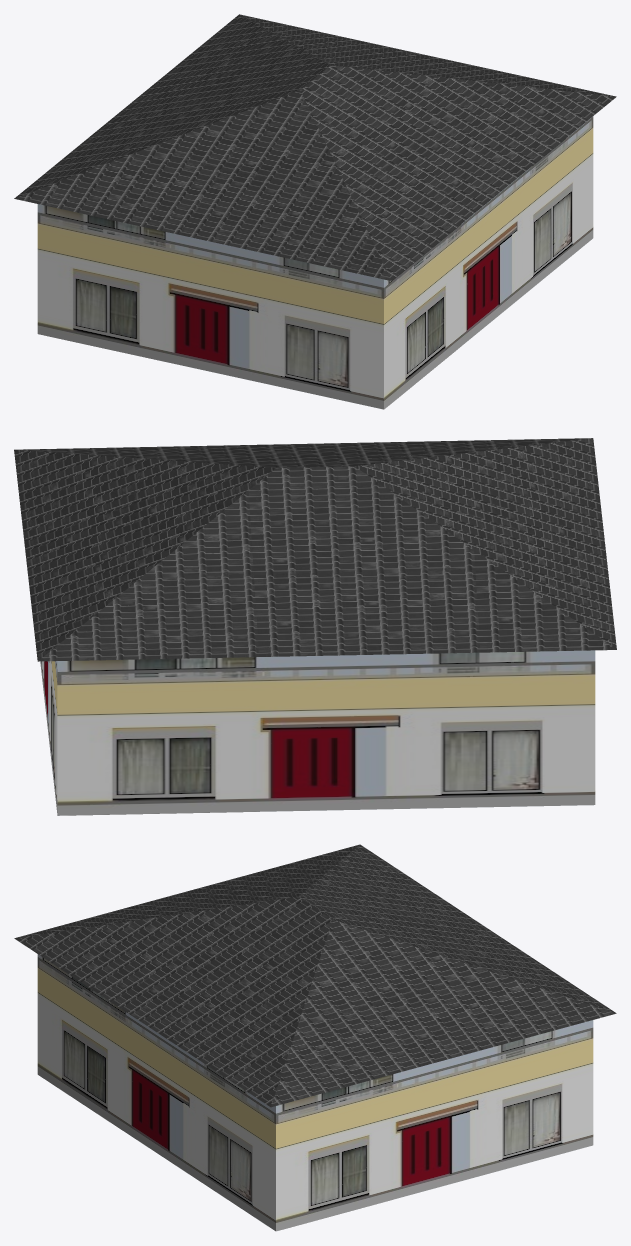
The picture shows the model from 3 angles, top to bottom: view 1: azimuth 30°, elevation 25°; view 2: azimuth 150°, elevation 25°; view 3: azimuth 270°, elevation 25°; orthographic projection. The views are drawn at different scales.
Visible parts, largest first — view 1: CityEngineMaterial_16_m, CityEngineMaterial_15_m; view 2: CityEngineMaterial_16_m, CityEngineMaterial_15_m; view 3: CityEngineMaterial_16_m, CityEngineMaterial_15_m.
Boxes of the visible parts, x1=… form: CityEngineMaterial_16_m: x1=14, y1=14, x2=616, y2=280; CityEngineMaterial_15_m: x1=37, y1=116, x2=593, y2=409; CityEngineMaterial_16_m: x1=14, y1=438, x2=616, y2=661; CityEngineMaterial_15_m: x1=40, y1=650, x2=595, y2=815; CityEngineMaterial_16_m: x1=14, y1=844, x2=616, y2=1107; CityEngineMaterial_15_m: x1=37, y1=954, x2=593, y2=1231.
Bounding box in the file's own units: 34.25 × 12.26 × 33.18.
